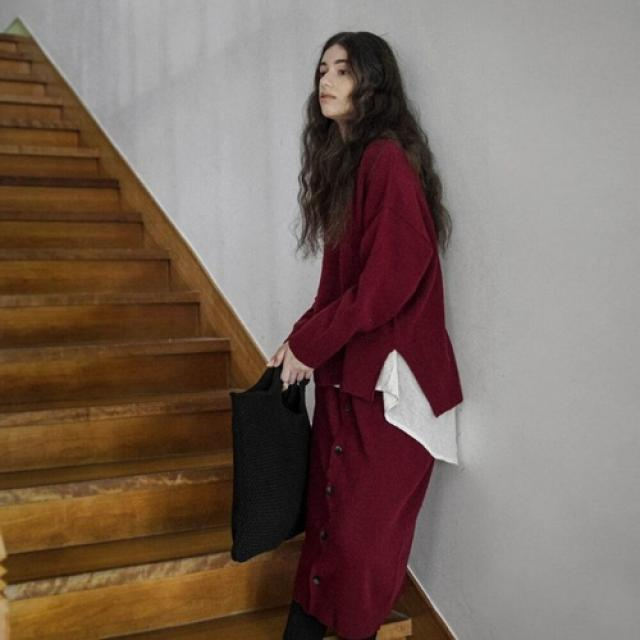Blouse_deep: (278, 325, 452, 640)
